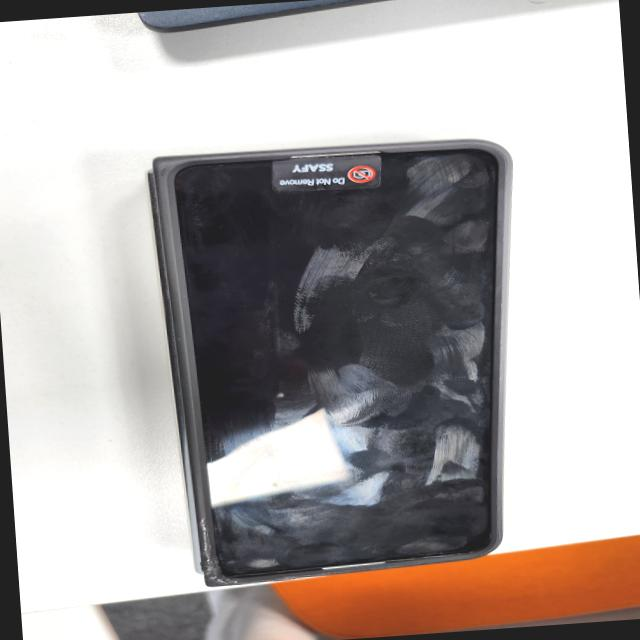phone: (149, 130, 546, 589)
sticker: (266, 152, 388, 192)
